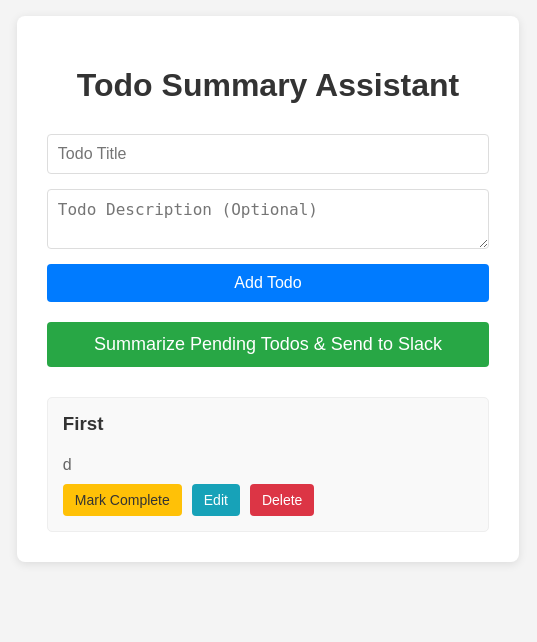
Test: App › summarize failure shows error notification
Expected: the heading "First" is shown, 63,413 -> 103,434
Click the button "Summarize Pending Todos & Send to Slack" at coordinates (268, 345), box 47,322 -> 489,367
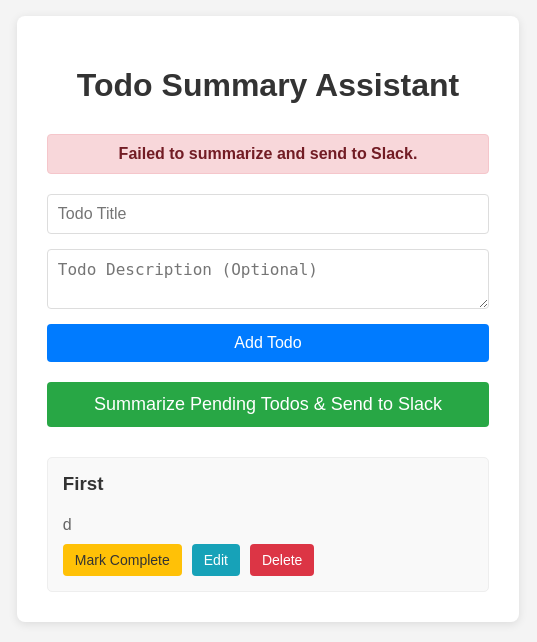
Now the text "Failed to summarize and send to Slack." is shown, box 47,134 -> 489,174
